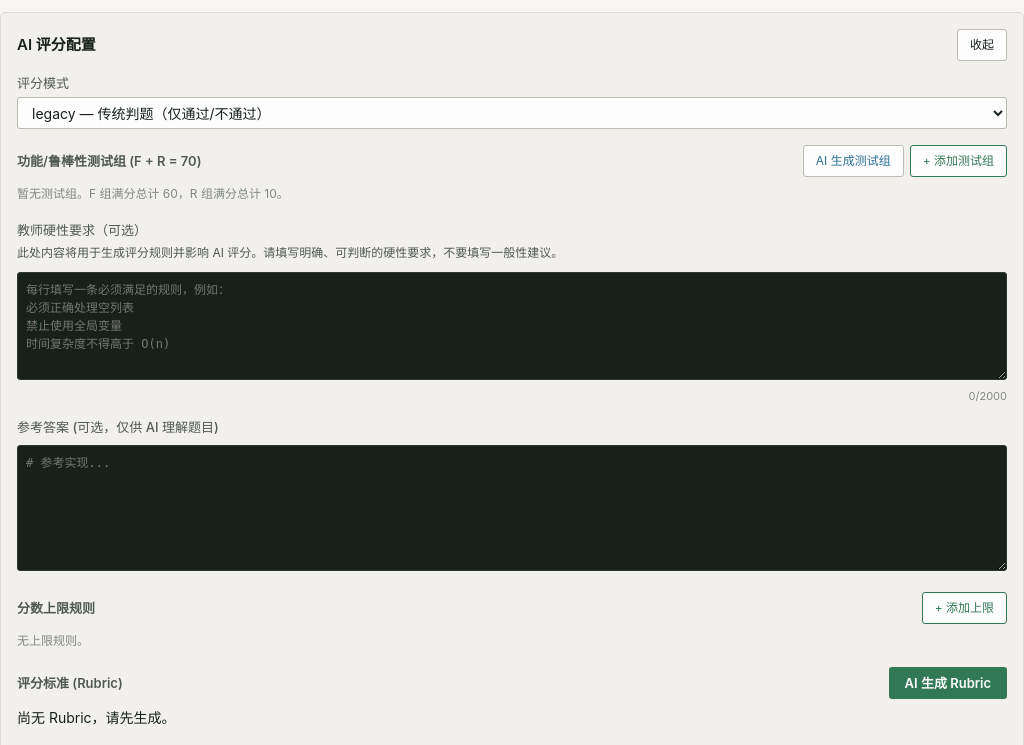
Test: AIQuestionConfig 真实挂载 › 添加上限规则时提供后端必填的描述字段
Click the button "+ 添加上限": click(964, 608) x1=922 y1=592 x2=1007 y2=624
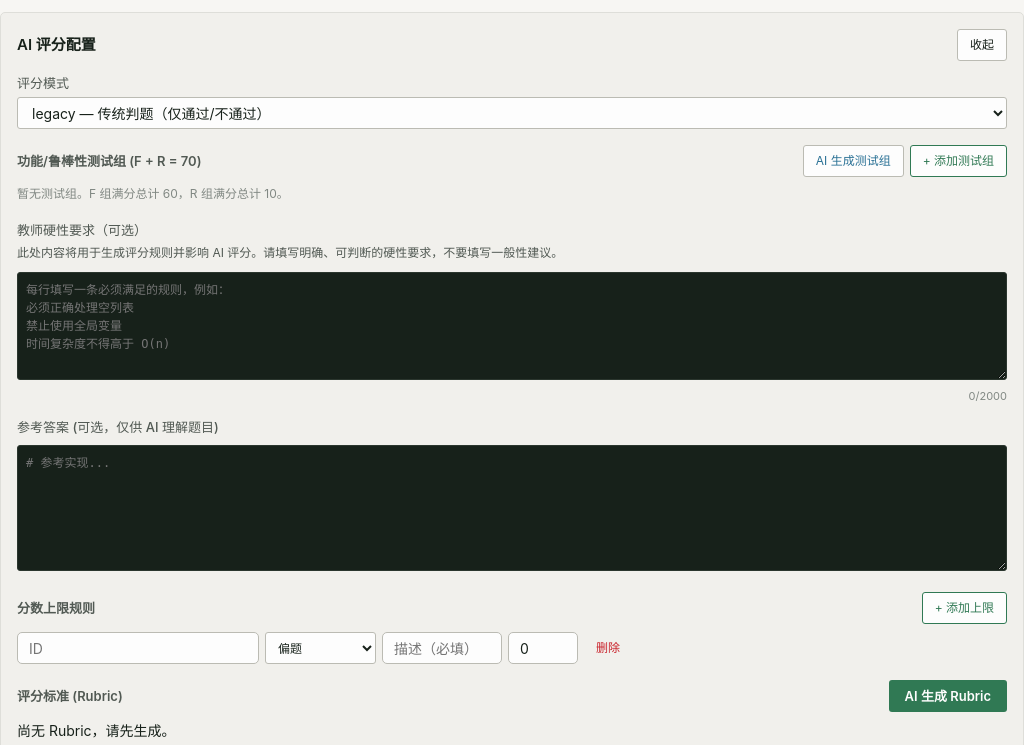
Now the field with placeholder "描述（必填）" is shown, box x1=382 y1=632 x2=502 y2=664
